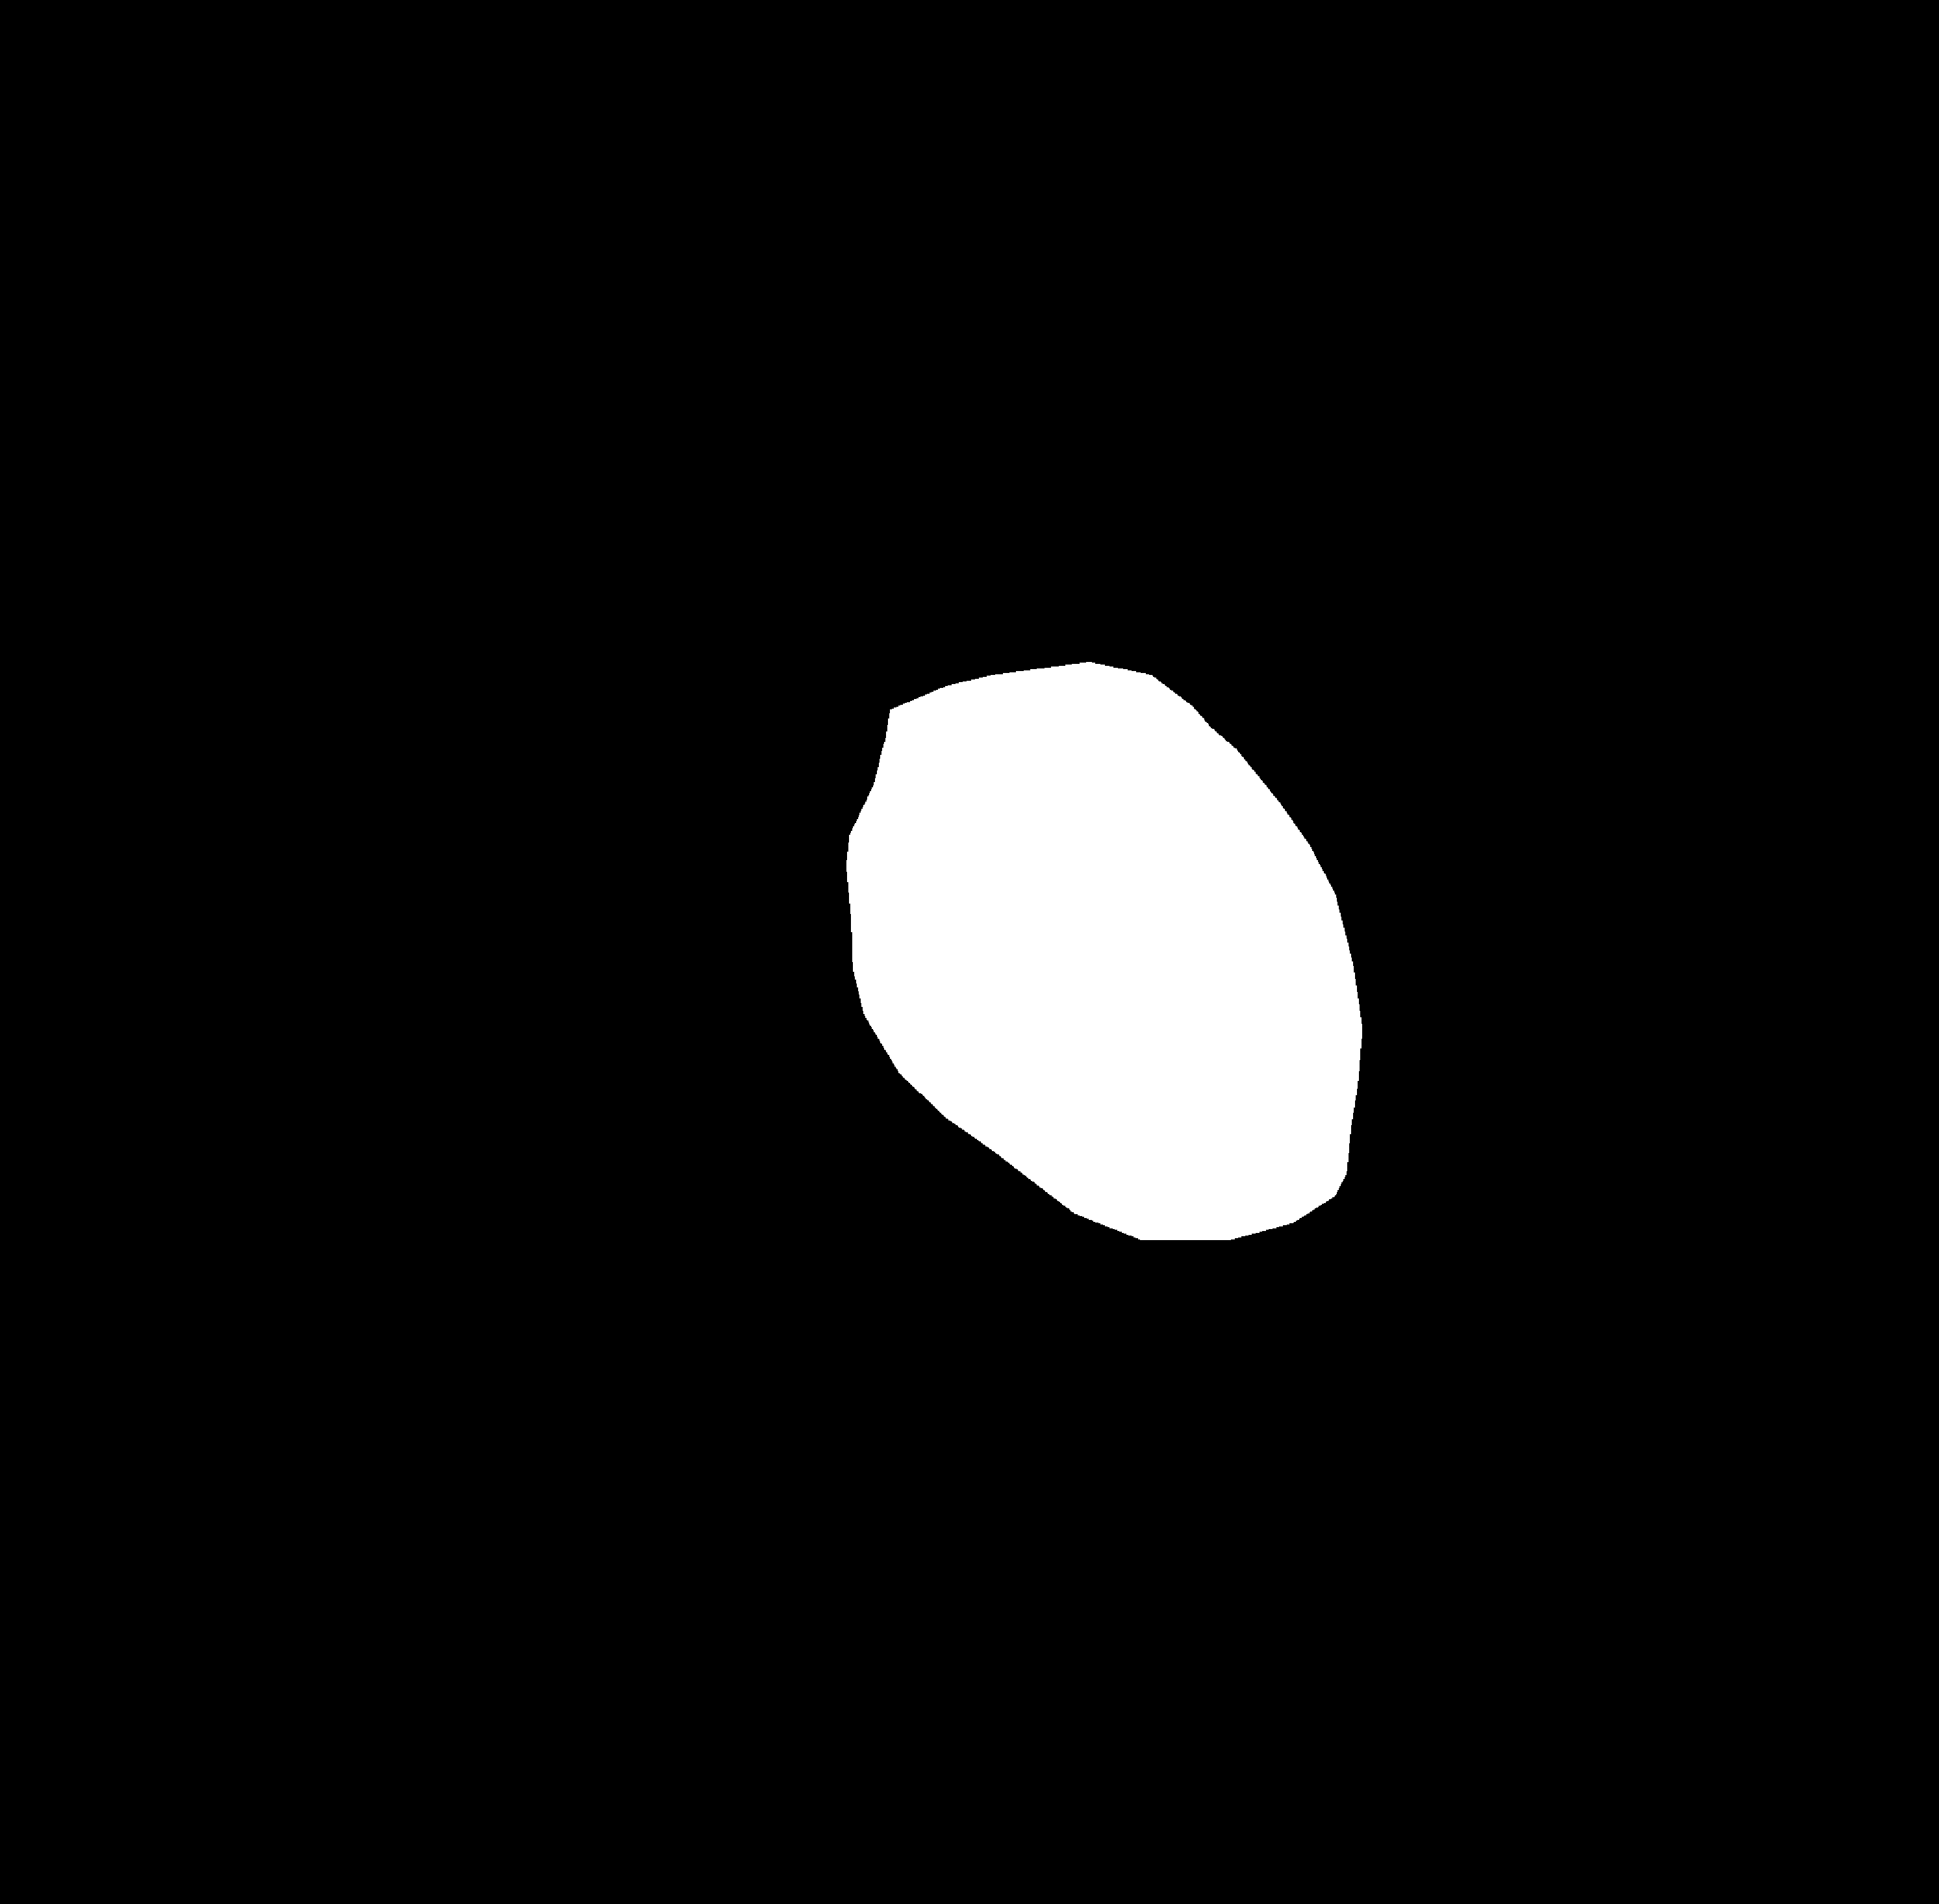heart: (846, 746, 1358, 1268)
left_lung: (432, 214, 900, 1257)
right_lung: (1055, 178, 1601, 1327)
